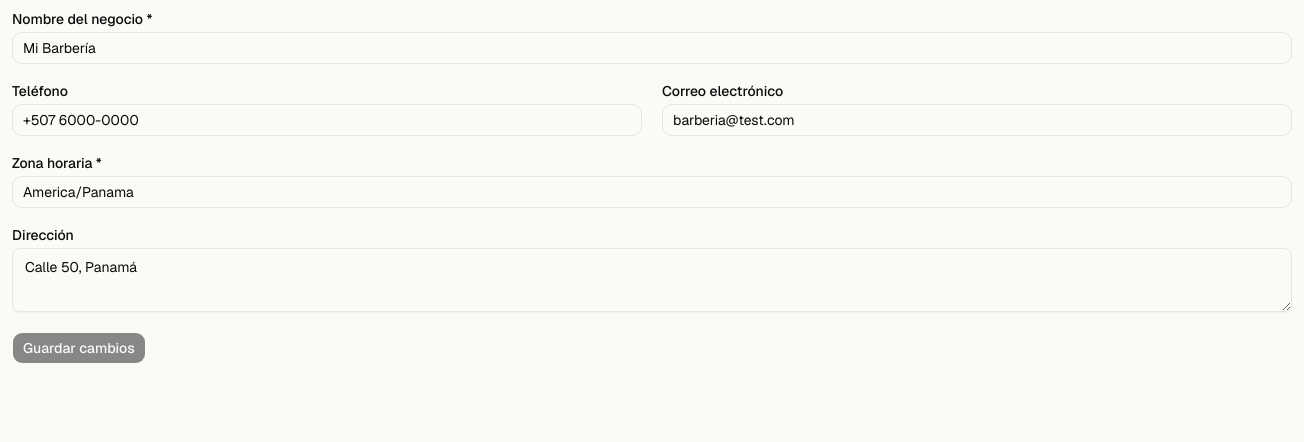
Test: EditBusinessForm — error del servidor › muestra error genérico cuando el servidor falla sin body.error
Replace the text in the field labelled "Nombre del negocio *" with "Nueva Barbería" at (652, 48), box [12,32,1292,64]
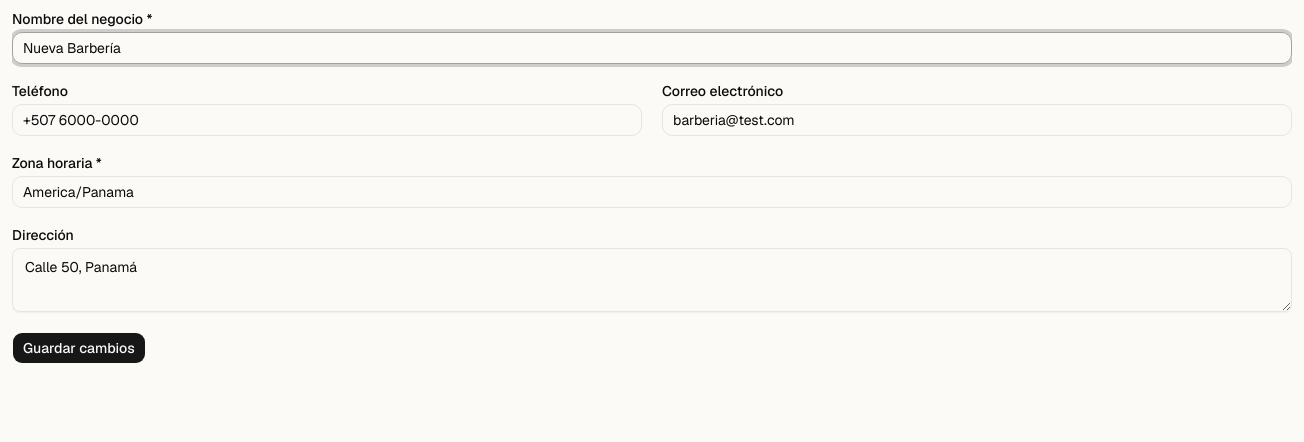
Click the button "Guardar cambios".
click(79, 348)  # box [12,332,146,364]
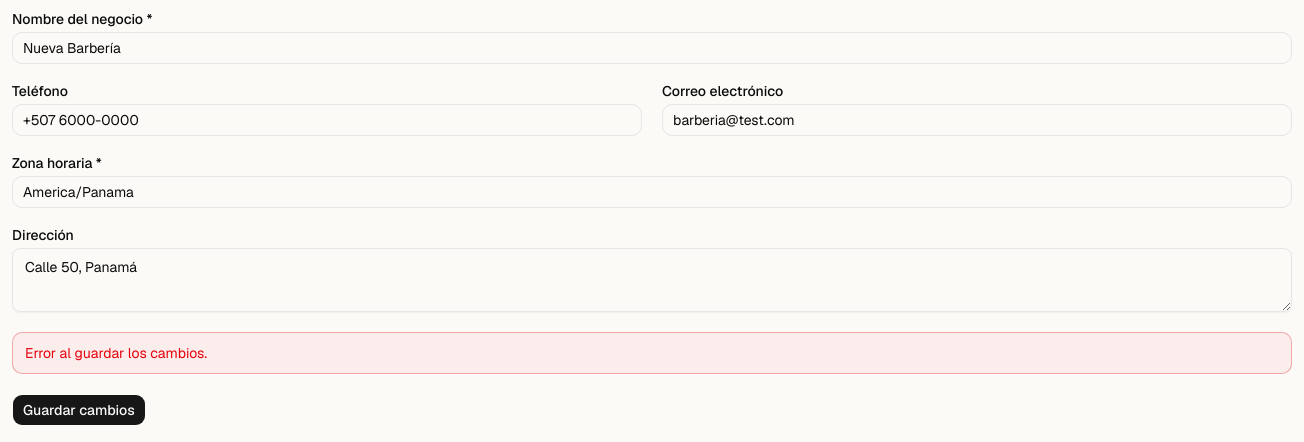
Expected: the text "Error al guardar los cambios." is shown, [25,344,207,362]
